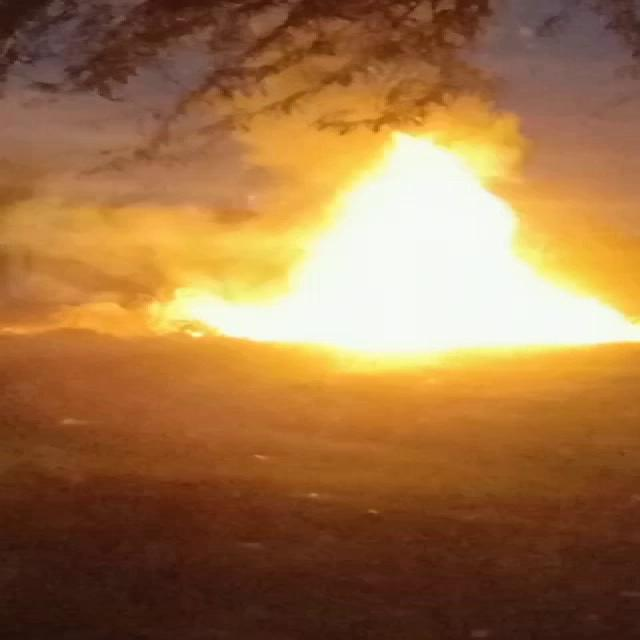Fire: (180, 155, 640, 351)
